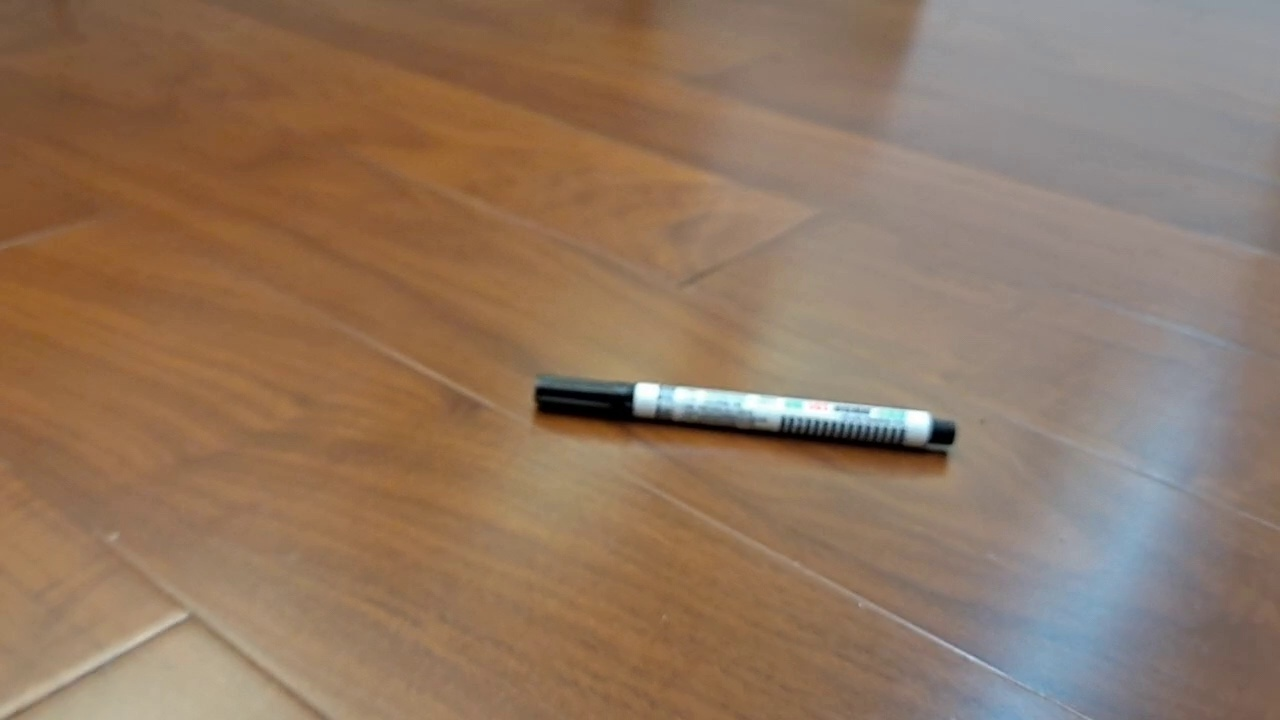pen: (533, 374, 956, 450)
